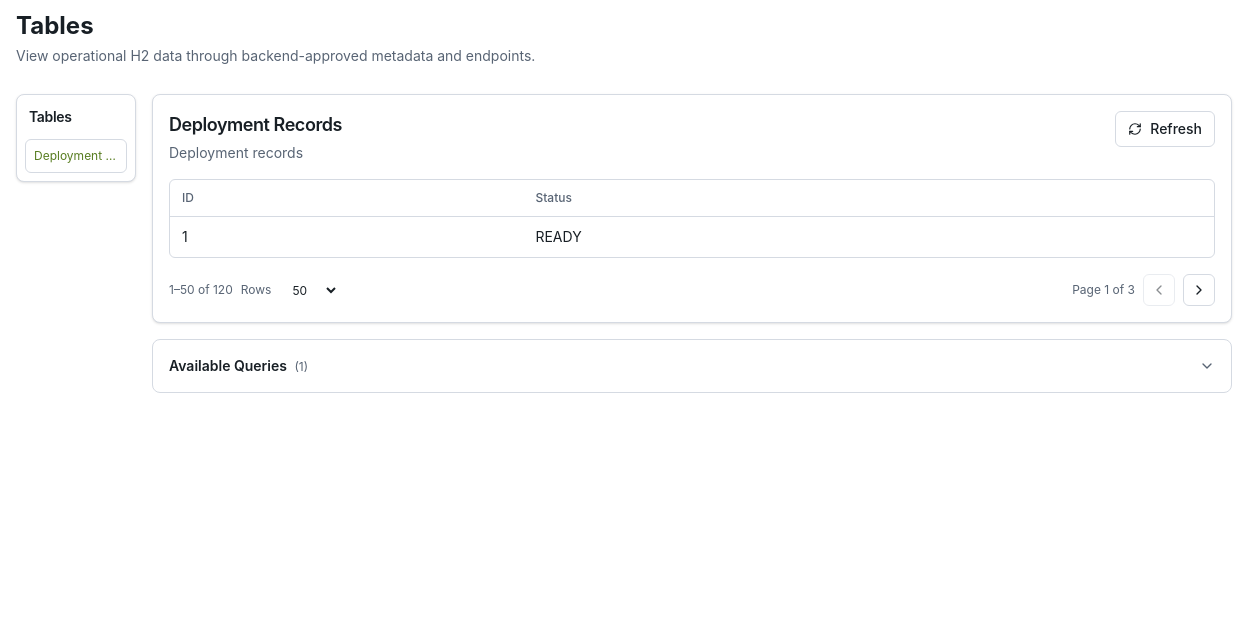
Test: TablesPage metadata-driven queries › resets pagination and refreshes the selected table after any successful mutation
Expected: the button "READY" is shown, [535, 227, 855, 247]
Click the button named "Next page". click: [1199, 290]
box: [1183, 274, 1215, 306]
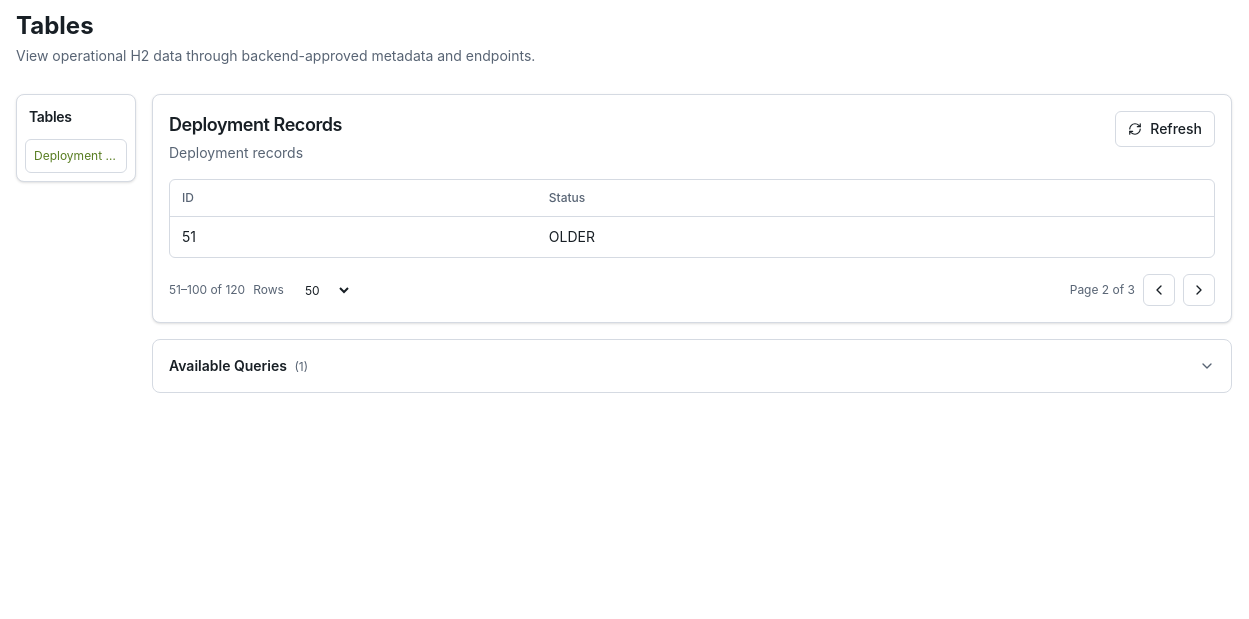
Now the button "OLDER" is shown, box [549, 227, 869, 247]
Click the heading "Available Queries (1)". click: [230, 366]
box: [169, 357, 1215, 374]
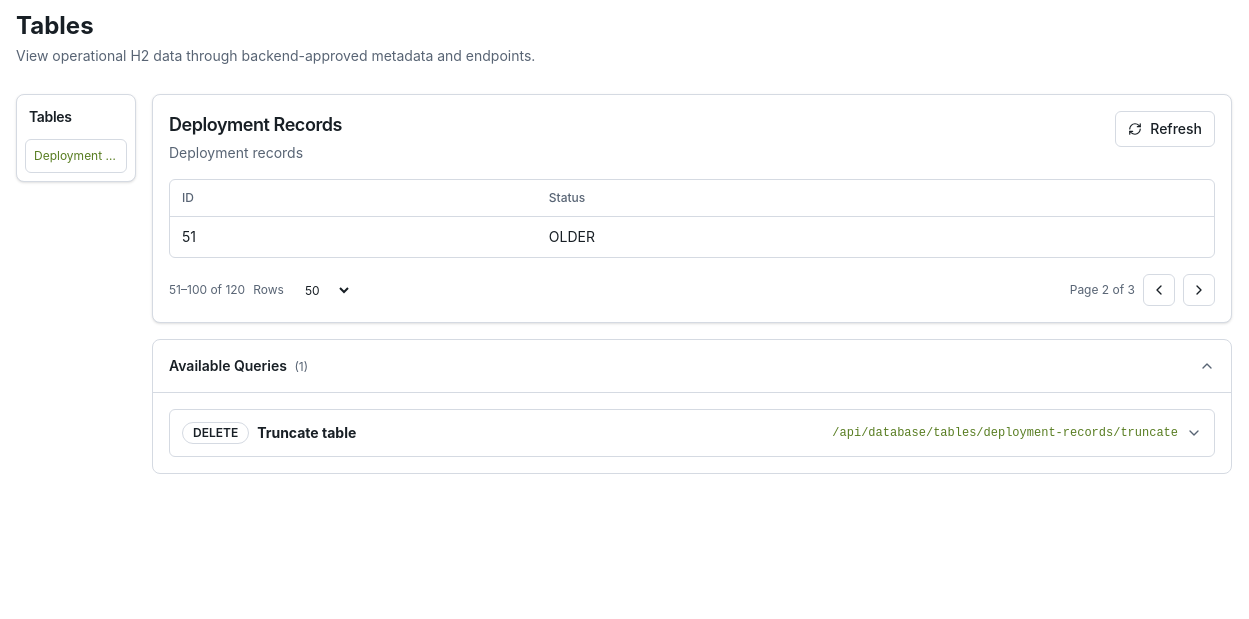
Click the text "Truncate table". click: [307, 433]
box: [257, 423, 356, 443]
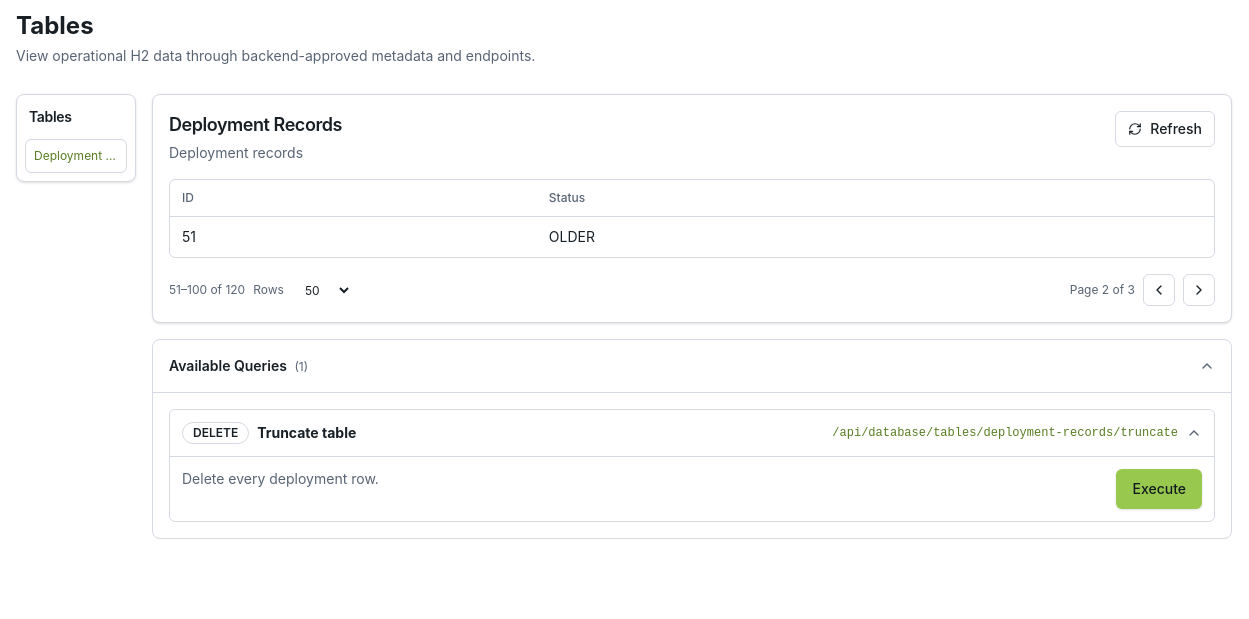
Click the button "Execute". click: [1159, 489]
box: [1116, 469, 1202, 509]
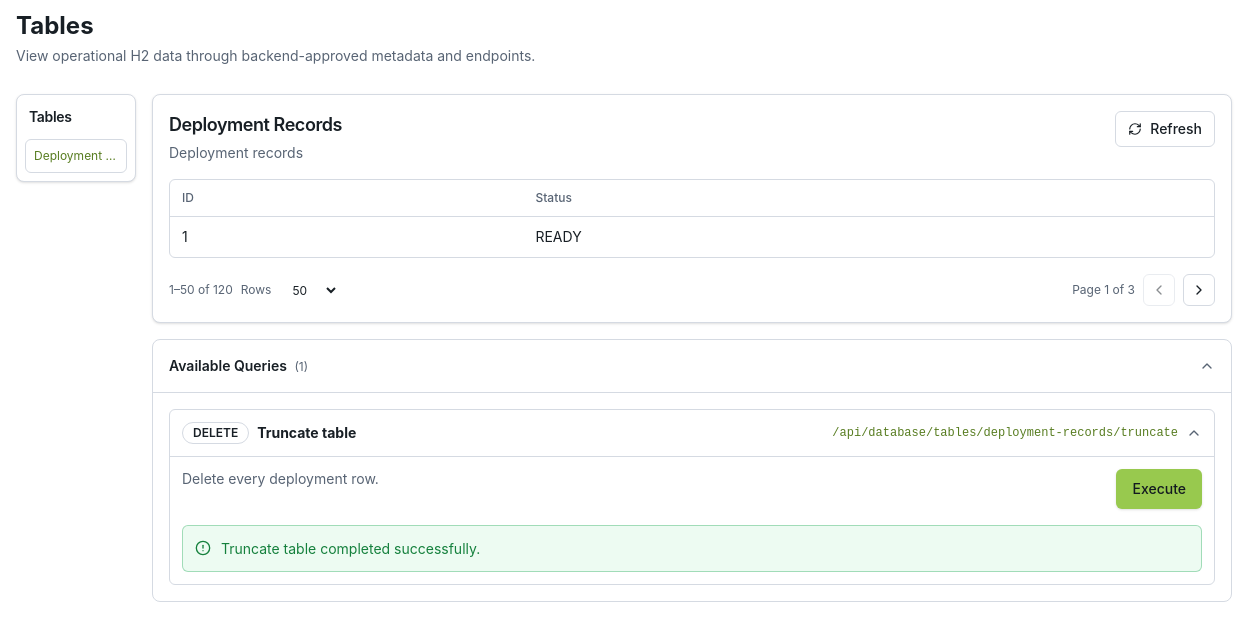
Now the text "Truncate table completed successfully." is shown, box [221, 538, 480, 559]
